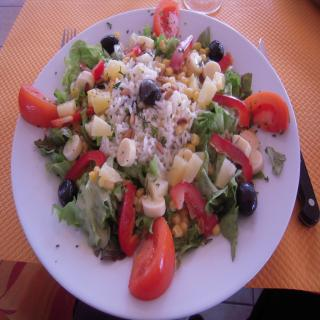tomato: (127, 216, 176, 301), (170, 182, 215, 237), (241, 90, 290, 135), (210, 132, 253, 183), (18, 82, 58, 127), (119, 183, 138, 259), (64, 148, 108, 180), (212, 96, 250, 126), (151, 0, 178, 35)
